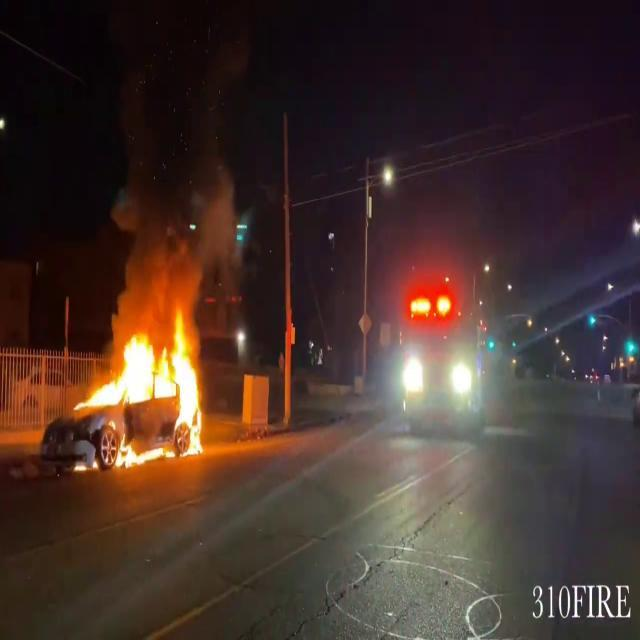Fire: (82, 303, 207, 466)
Smoke: (108, 75, 242, 321)
